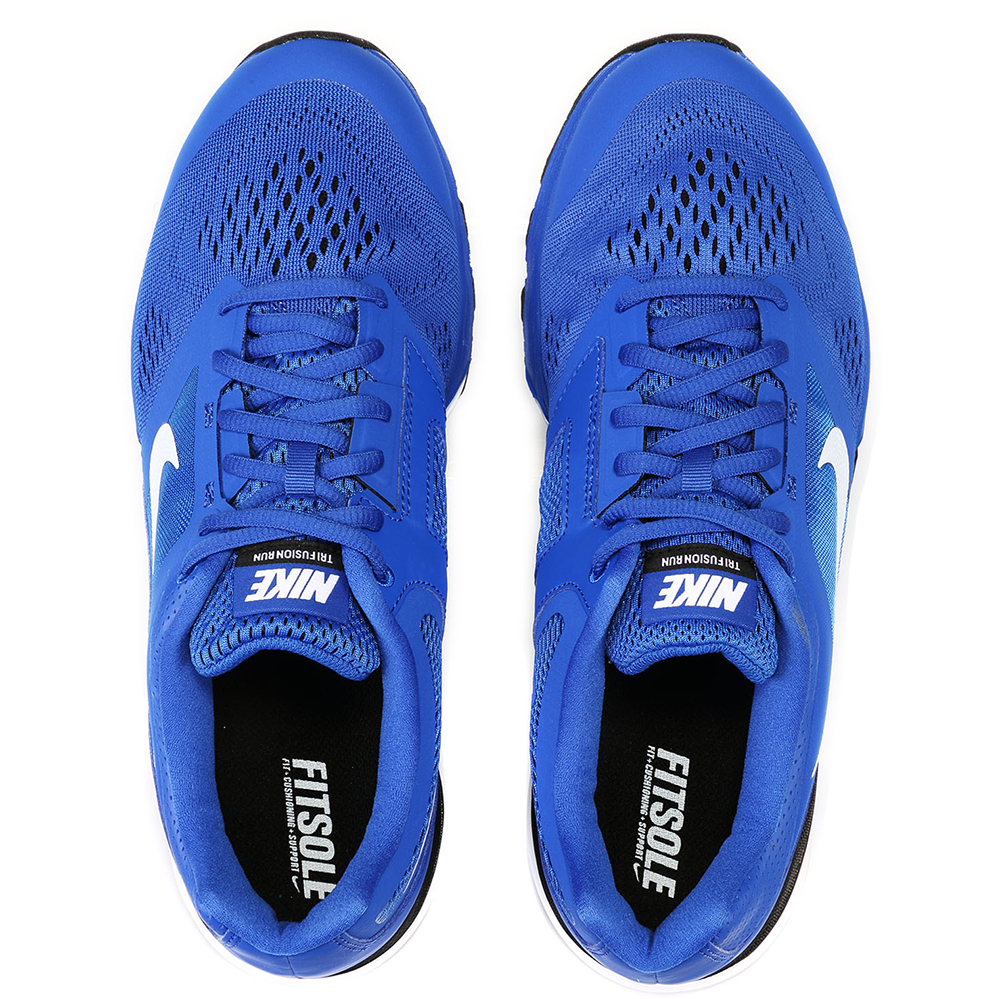Nike: (140, 417, 186, 581), (817, 416, 856, 585), (630, 858, 647, 883), (289, 872, 300, 891)
